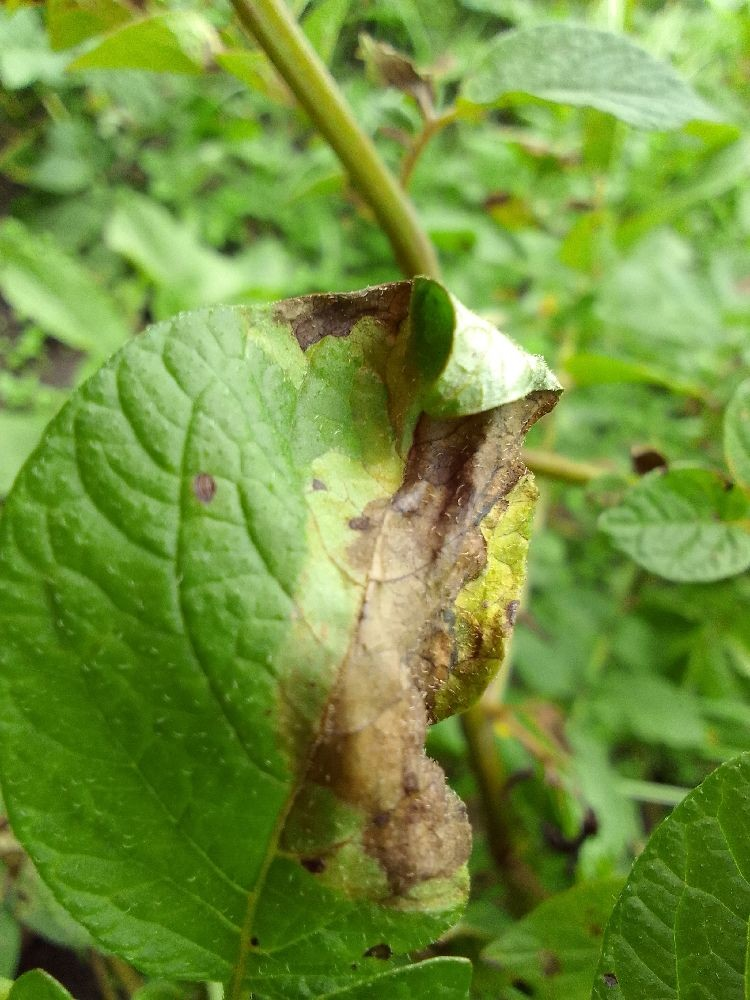late_blight: (258, 221, 599, 925), (0, 794, 167, 1000), (0, 74, 67, 236), (0, 325, 94, 396)
